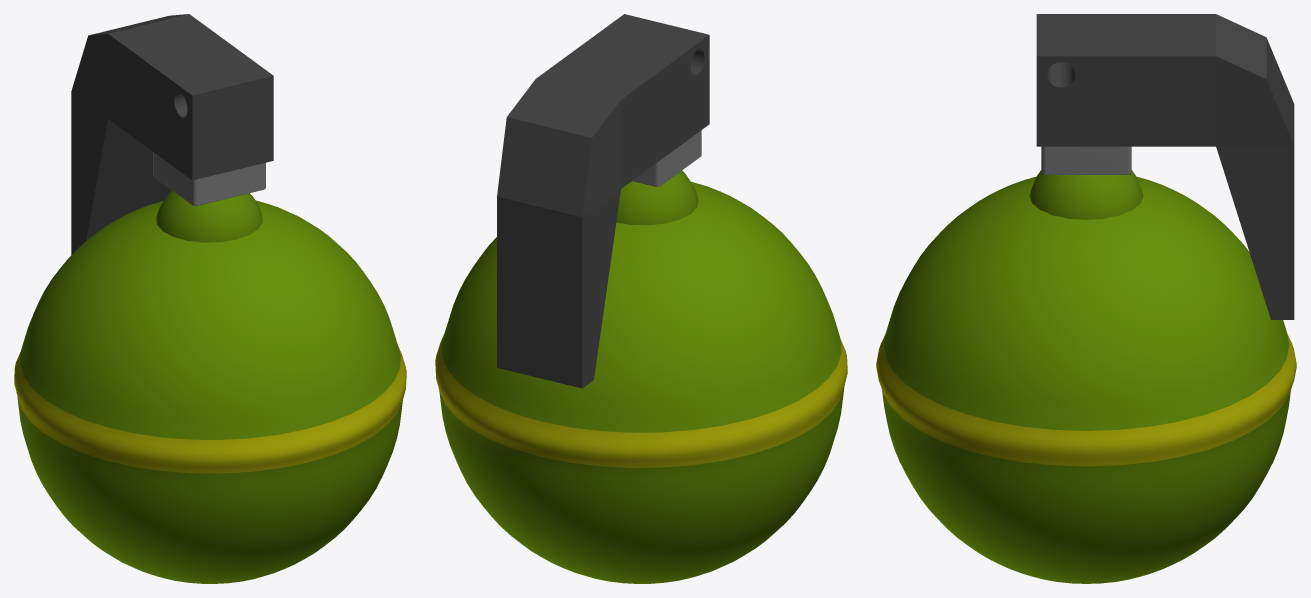
Rendered from Granade.fbx.
The picture shows the model from 3 angles, left to right: view 1: azimuth 30°, elevation 25°; view 2: azimuth 150°, elevation 25°; view 3: azimuth 270°, elevation 25°; orthographic projection. The views are drawn at different scales.
Visible parts, largest first — view 1: pSphere4; view 2: pSphere4; view 3: pSphere4.
Boxes of the visible parts, bbox=[...] form: pSphere4: bbox=[14, 14, 406, 583]; pSphere4: bbox=[435, 14, 847, 583]; pSphere4: bbox=[876, 14, 1296, 583].
Size of the model in its own units: 0.7738 by 1.08 by 0.7791.
